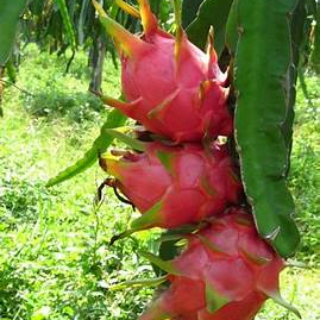thanh_long: (85, 2, 241, 149), (129, 219, 298, 319), (90, 132, 245, 228)
